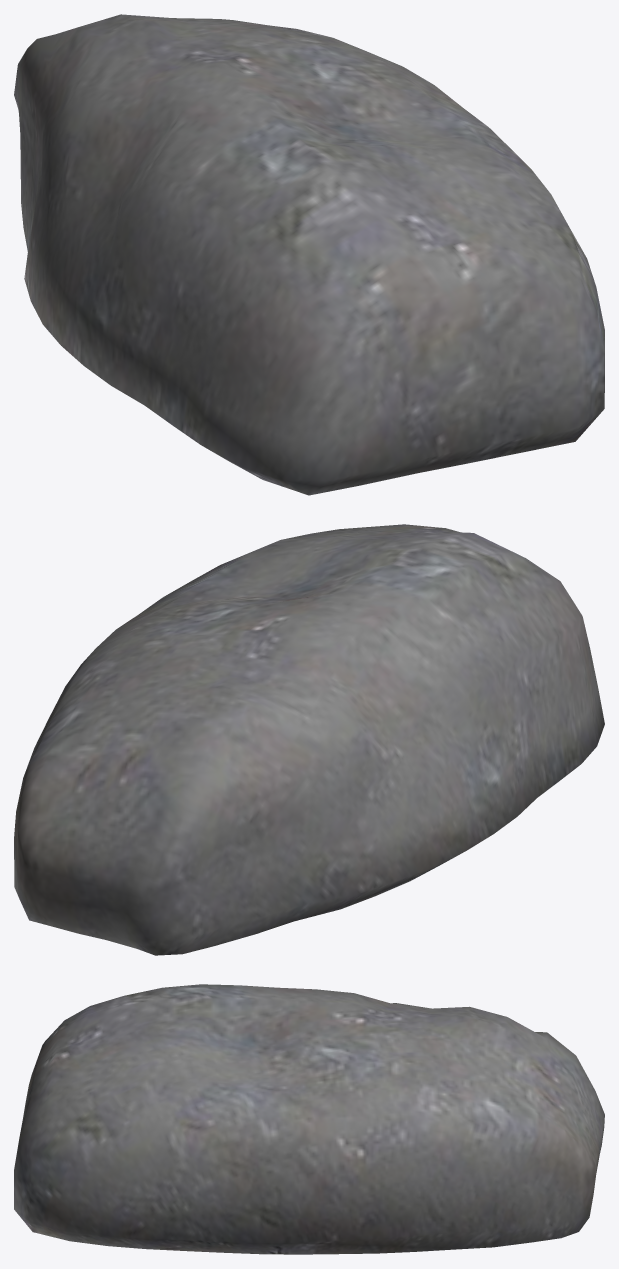
The model's file is SM_Sun_Pal_Stone_H.fbx.
The picture shows the model from 3 angles, top to bottom: view 1: azimuth 30°, elevation 25°; view 2: azimuth 150°, elevation 25°; view 3: azimuth 270°, elevation 25°; orthographic projection. The views are drawn at different scales.
Parts seen in each view (by area): view 1: SM_Sun_Pal_Stone_H; view 2: SM_Sun_Pal_Stone_H; view 3: SM_Sun_Pal_Stone_H.
Part boxes in pixels (<box>): SM_Sun_Pal_Stone_H: <box>14,14,604,495</box>; SM_Sun_Pal_Stone_H: <box>14,524,604,955</box>; SM_Sun_Pal_Stone_H: <box>14,984,604,1254</box>.
Bounding box in the file's own units: 56.97 × 31.88 × 94.72.
